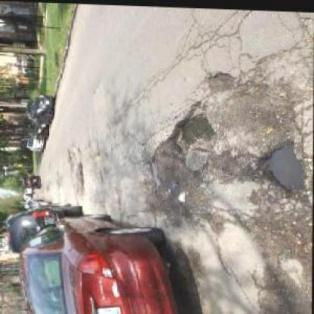Hueco: (165, 98, 219, 157), (257, 135, 306, 193), (206, 68, 235, 94), (75, 162, 84, 186), (176, 187, 189, 201)
